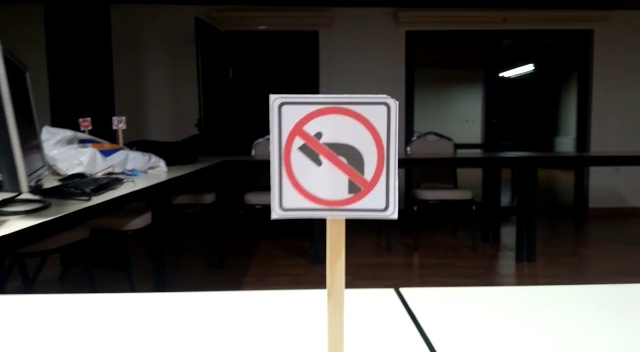sola_donulmez: (272, 99, 393, 217)
